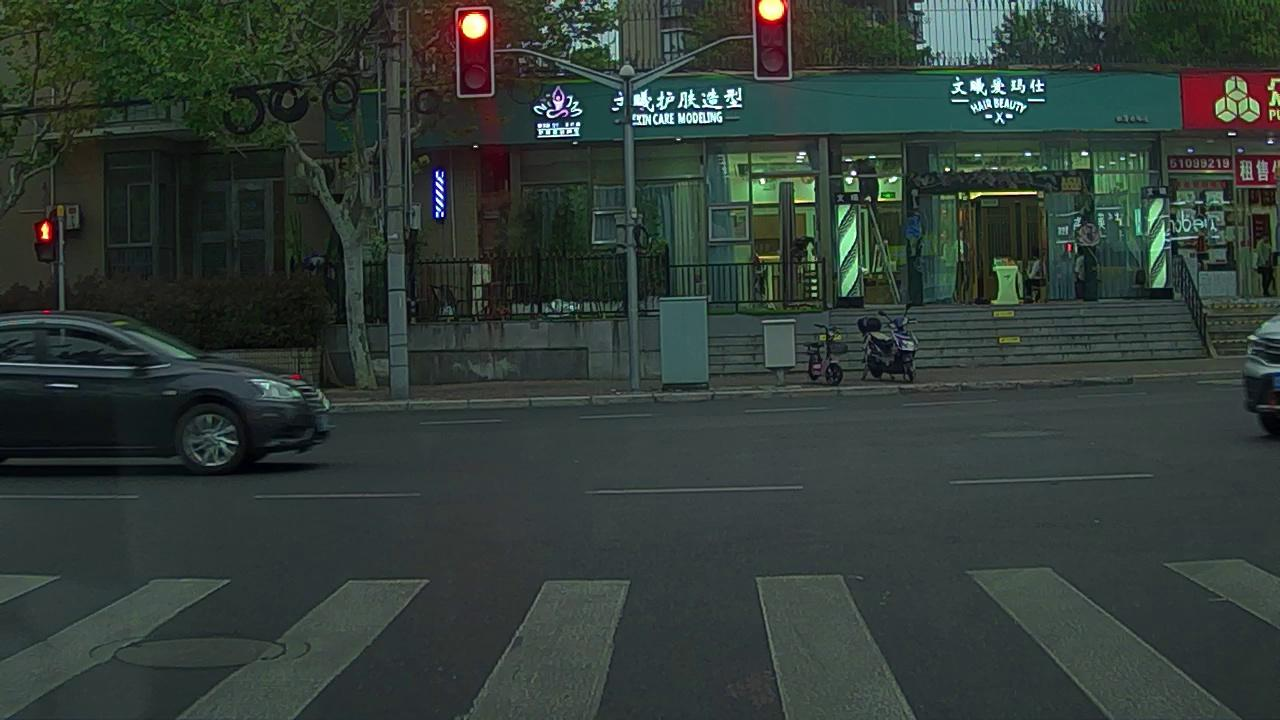traffic_light: (454, 7, 492, 97), (753, 1, 793, 81)
